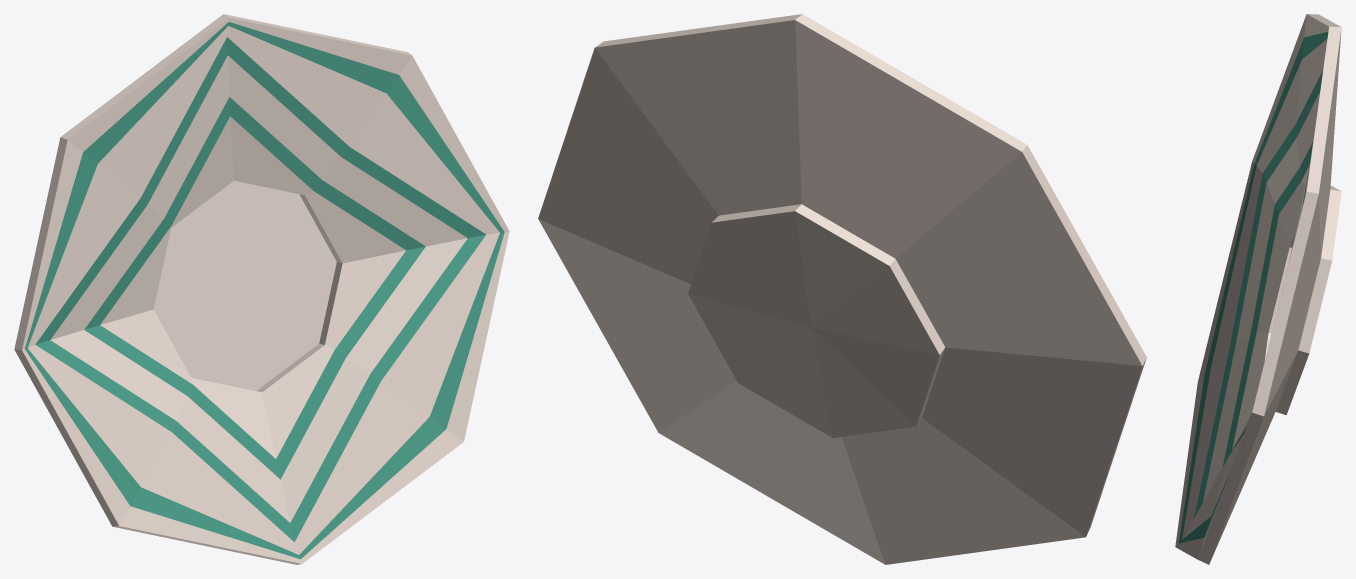
File: Plate_1.fbx
The picture shows the model from 3 angles, left to right: view 1: azimuth 30°, elevation 25°; view 2: azimuth 150°, elevation 25°; view 3: azimuth 270°, elevation 25°; orthographic projection. The views are drawn at different scales.
Parts seen in each view (by area): view 1: Plate_1; view 2: Plate_1; view 3: Plate_1.
Part boxes in pixels (box(x1,y1,x2,y2)): Plate_1: box(14, 14, 509, 564); Plate_1: box(538, 14, 1146, 564); Plate_1: box(1175, 14, 1341, 564).
Bounding box in the file's own units: 38.71 × 10.74 × 37.43.
